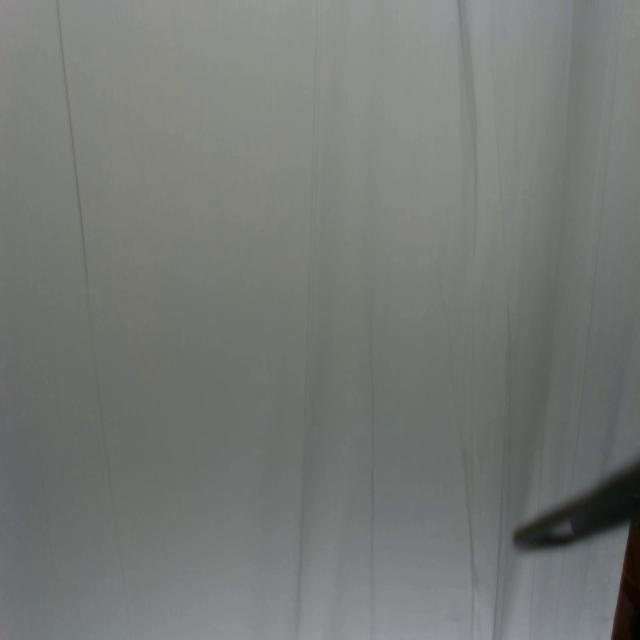crease: (53, 0, 130, 636), (573, 0, 626, 445), (294, 1, 324, 639), (491, 301, 513, 638), (458, 460, 477, 640), (369, 317, 375, 640)
